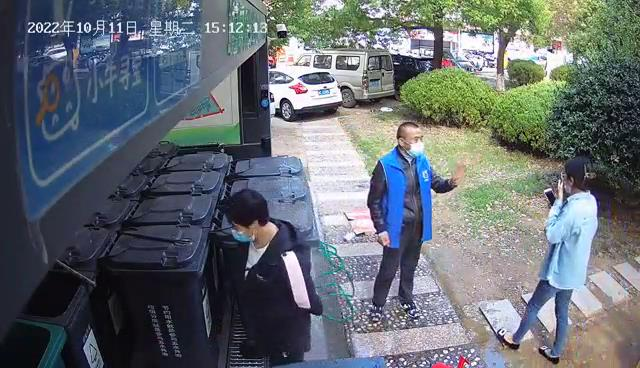person: (223, 189, 324, 363)
worker: (496, 155, 599, 366), (366, 121, 466, 322)
